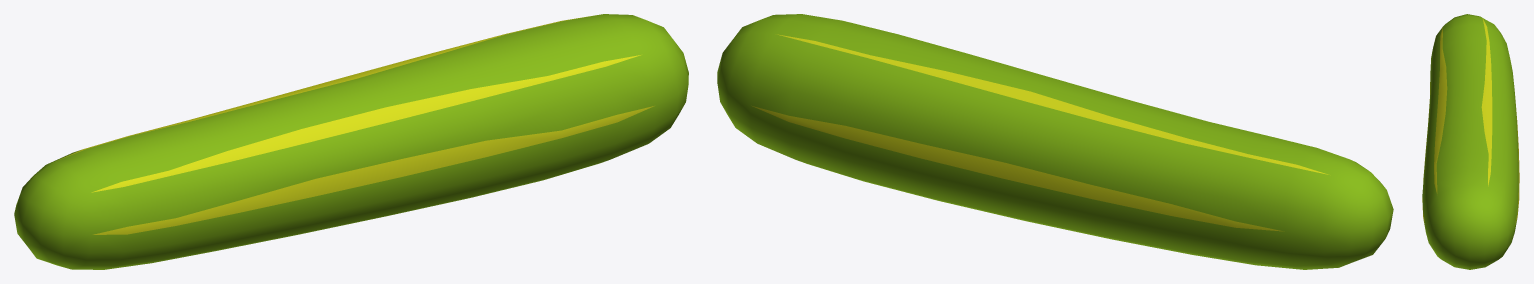
File: FoodIngredient_Cucumber.fbx
3 views of the same model, side by side, from view 1: azimuth 30°, elevation 25°; view 2: azimuth 150°, elevation 25°; view 3: azimuth 270°, elevation 25° (orthographic). The views are drawn at different scales.
Visible parts, largest first — view 1: FoodIngredient_Cucumber; view 2: FoodIngredient_Cucumber; view 3: FoodIngredient_Cucumber.
Part boxes in pixels (x1=…): FoodIngredient_Cucumber: x1=14, y1=14, x2=688, y2=269; FoodIngredient_Cucumber: x1=717, y1=14, x2=1393, y2=269; FoodIngredient_Cucumber: x1=1422, y1=14, x2=1519, y2=269.
Bounding box in the file's own units: 164 × 32.43 × 32.14.
